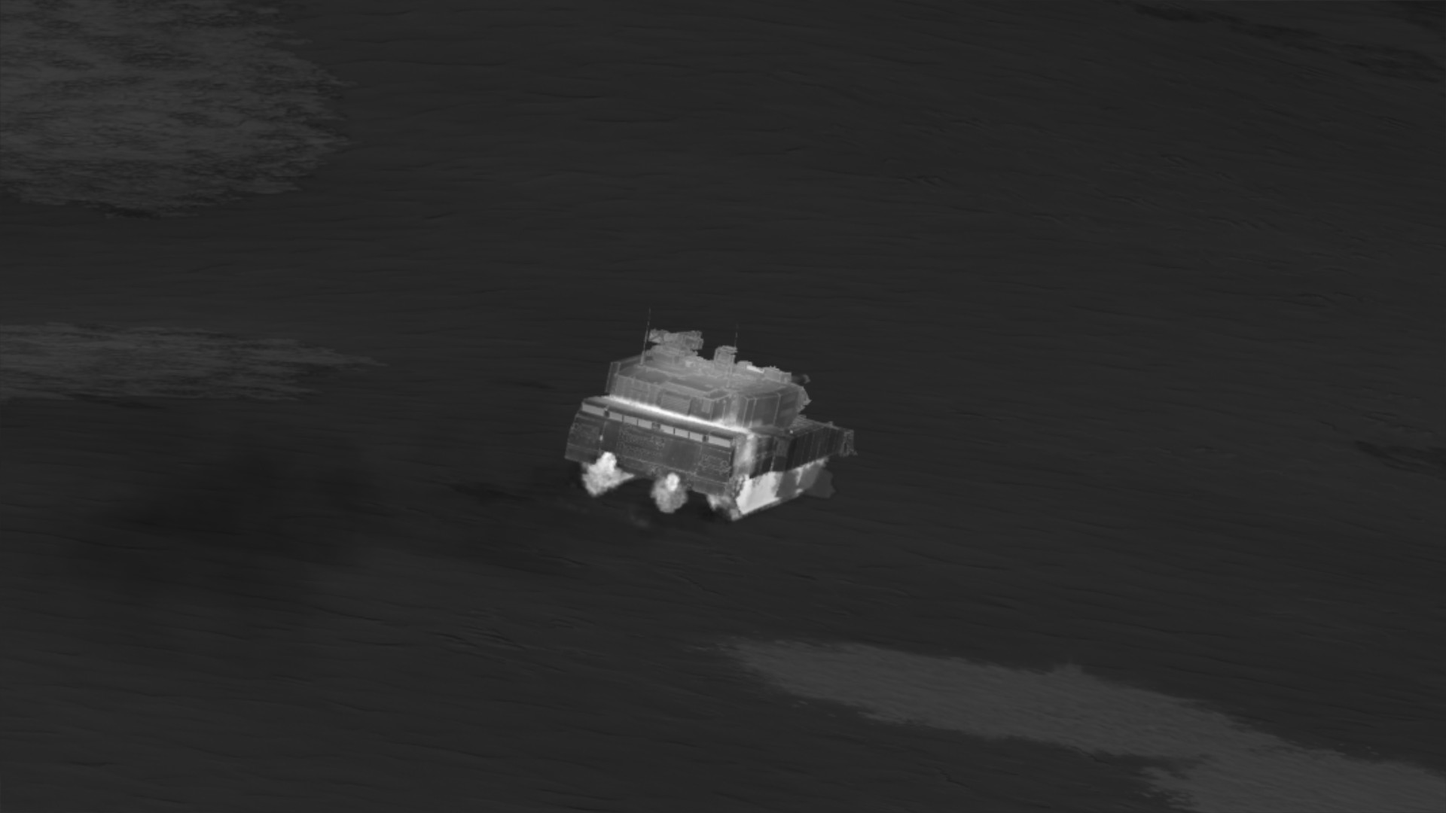leopard2: (567, 328, 858, 522)
